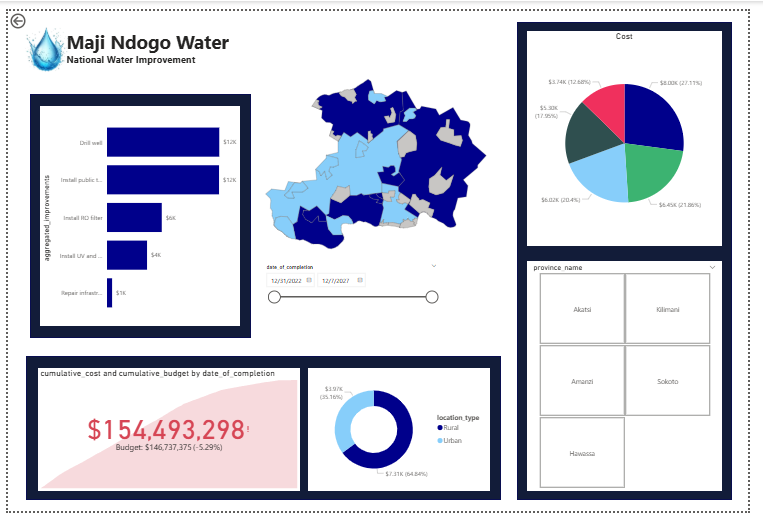

What the dashboard file says about the page in this screenshot:
{"tool":"powerbi","page":{"name":"Effects","canvas":[1480,1000],"ordinal":2},"visuals":[{"type":"image","box":[9.3,13,131.5,129.6],"z":0},{"type":"textbox","box":[111.1,29.6,351.9,107.4],"z":1000},{"type":"shape","box":[1018,22,430,956],"z":2000},{"type":"shape","box":[36,690,950,288],"z":3000},{"type":"shape","box":[44,166,442,488],"z":4000},{"type":"shapeMap","fields":{"Series":["project_progress.date_of_completion"],"Value":["project_progress.pct_project_complete"],"Category":["project_progress.town"]},"box":[486,112,500,388],"z":5000},{"type":"slicer","fields":{"Values":["project_progress.date_of_completion"]},"box":[503.7,500,364.8,133.3],"z":6000},{"type":"slicer","fields":{"Values":["location.province_name"]},"box":[1037.5,500,390,460],"z":7000},{"type":"kpi","fields":{"Indicator":["project_progress.cumulative_cost"],"TrendLine":["project_progress.date_of_completion"],"Goal":["project_progress.cumulative_budget"]},"box":[60,714,524,246],"z":8000},{"type":"actionButton","box":[0,0,100,40],"z":9000},{"type":"pieChart","title":"Cost","fields":{"Y":["Avg(project_progress.cost)"],"Category":["location.province_name"]},"box":[1037.5,40,390,430],"z":10000},{"type":"barChart","fields":{"Category":["project_progress.aggregated_improvements"],"Y":["Avg(project_progress.cost)"]},"box":[64,190,400,440],"z":11000},{"type":"donutChart","fields":{"Category":["location.location_type"],"Y":["Avg(project_progress.cost)"]},"box":[600,714,364,246],"z":12000}]}

Visuals, with their boxes in screenshot pixels (x1, y1, x2, y2), scaled from the page's 1480x1000 canvas onto the 763x520 screenshot:
image: (x1=5, y1=7, x2=73, y2=74)
textbox: (x1=57, y1=15, x2=239, y2=71)
shape: (x1=525, y1=11, x2=747, y2=509)
shape: (x1=19, y1=359, x2=508, y2=509)
shape: (x1=23, y1=86, x2=251, y2=340)
shapeMap - project_progress.date_of_completion x project_progress.pct_project_complete: (x1=251, y1=58, x2=508, y2=260)
slicer - project_progress.date_of_completion: (x1=260, y1=260, x2=448, y2=329)
slicer - location.province_name: (x1=535, y1=260, x2=736, y2=499)
kpi - project_progress.cumulative_cost x project_progress.date_of_completion: (x1=31, y1=371, x2=301, y2=499)
actionButton: (x1=0, y1=0, x2=52, y2=21)
"Cost" pieChart: (x1=535, y1=21, x2=736, y2=244)
barChart - project_progress.aggregated_improvements x Avg(project_progress.cost): (x1=33, y1=99, x2=239, y2=328)
donutChart - location.location_type x Avg(project_progress.cost): (x1=309, y1=371, x2=497, y2=499)
